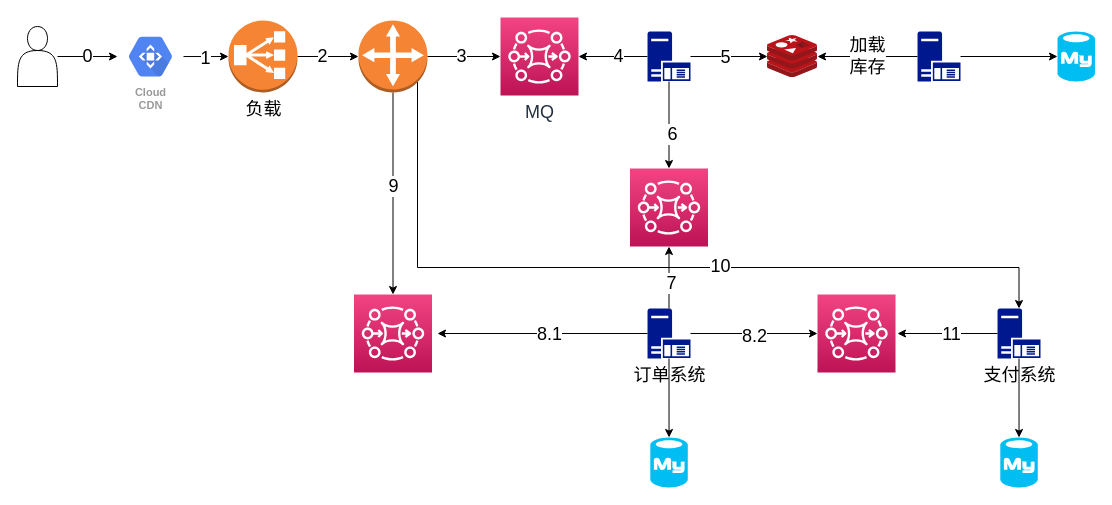
This 1112x505 diagram has some shape labels left out. Each missing label, with the centre of its shape:
"库存服务" belongs at [938,56].
"查询 扣减库存" belongs at [668,56].
"网关 限流/熔断" belongs at [393,56].
